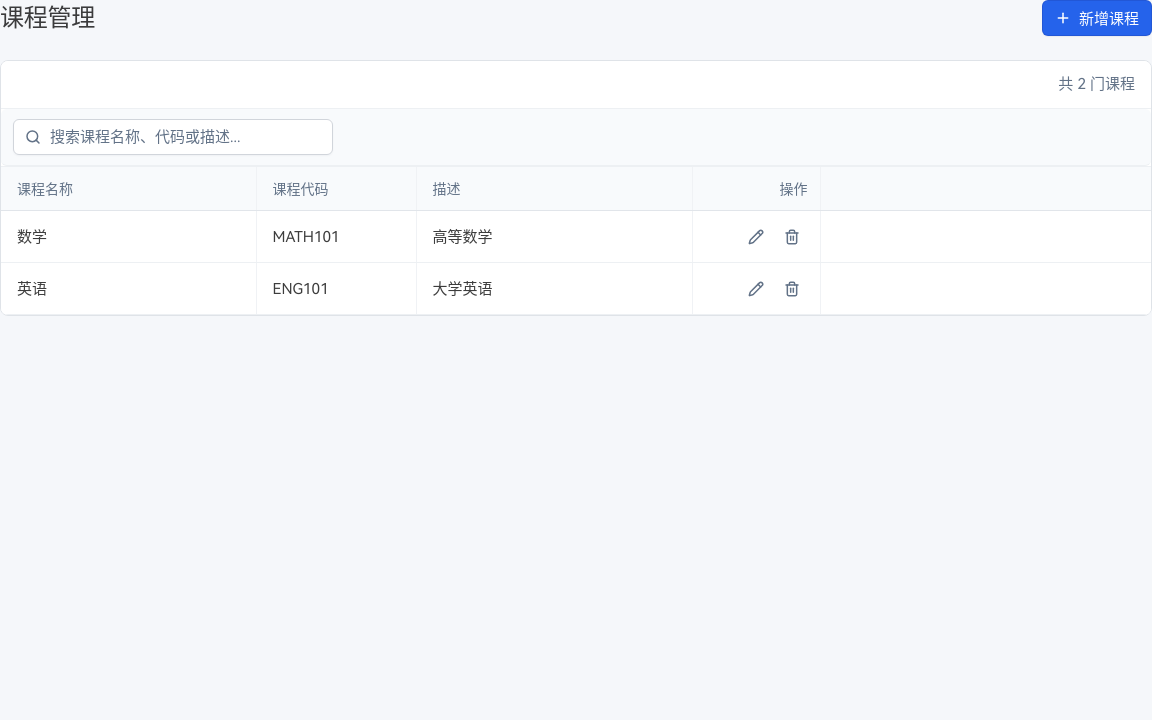
Test case: CoursePage › opens create dialog
Click the button "新增课程": click(1097, 18) [1042,0,1151,36]
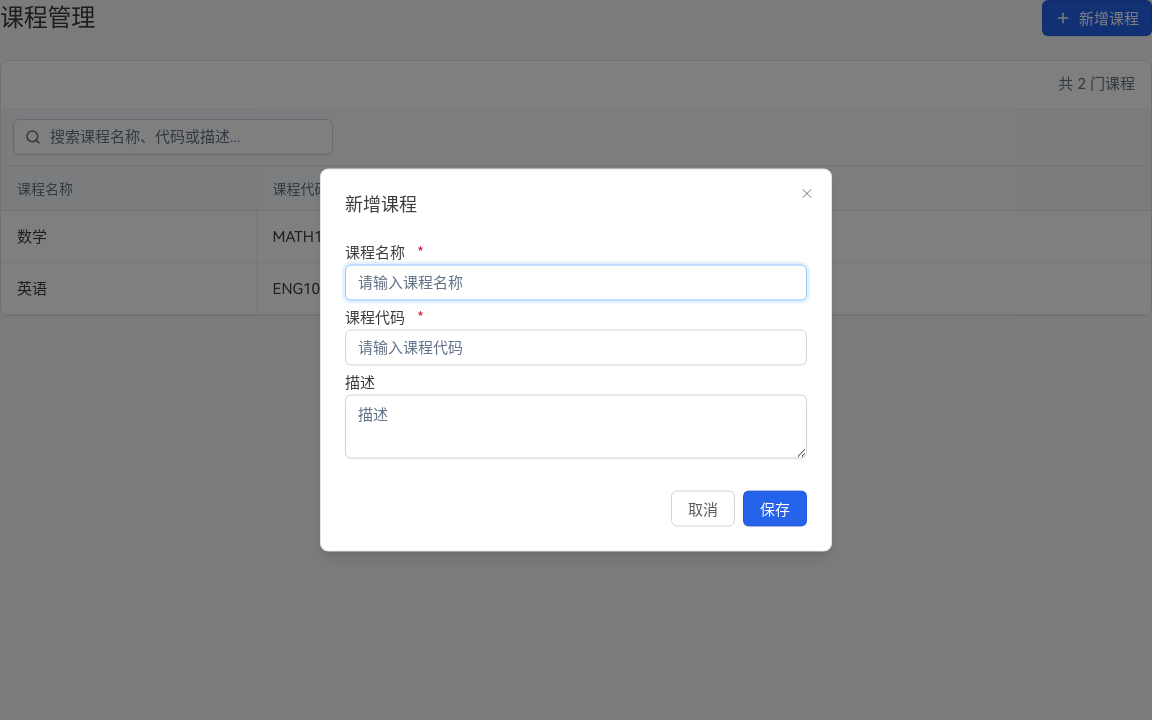
Now the dialog is shown, box [320,168,832,552]
Now the field labelled "课程名称 *" is empty, box [345,264,807,300]
Now the field labelled "课程代码 *" is empty, box [345,330,807,366]
